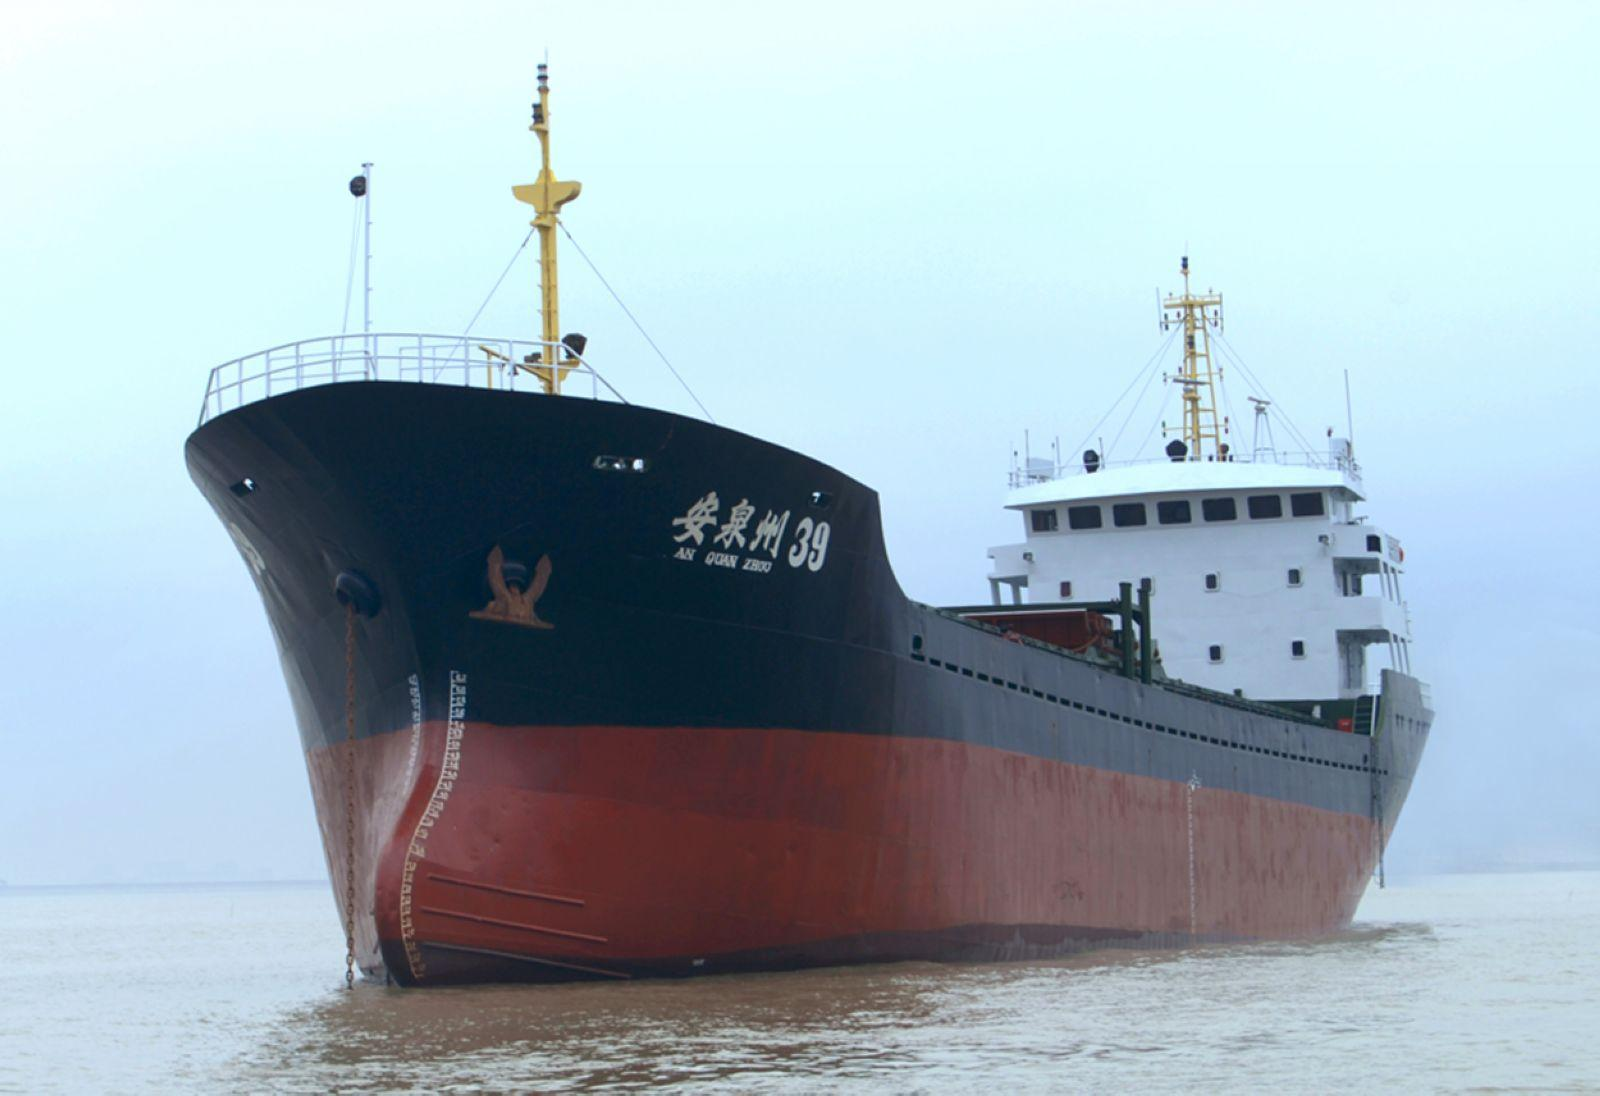Cargoship: (167, 140, 1436, 1004)
